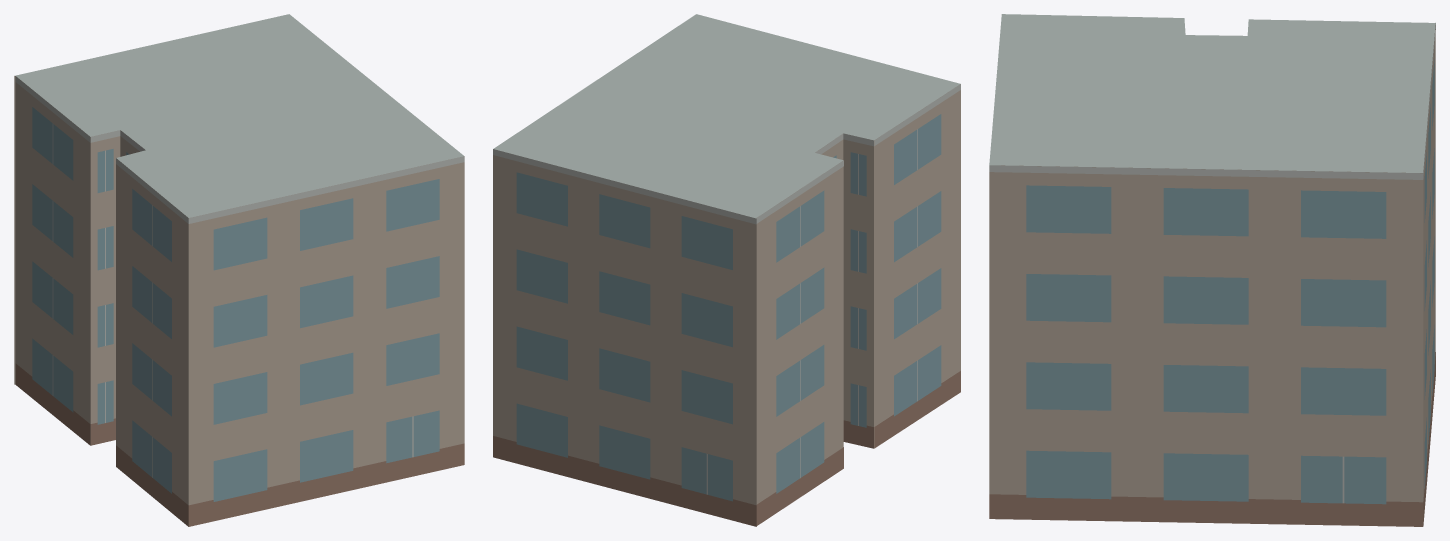
Rendered from survey-upis-32703099.glb.
3 renders of one model, left to right at view 1: azimuth 30°, elevation 25°; view 2: azimuth 150°, elevation 25°; view 3: azimuth 270°, elevation 25°, orthographic. The views are drawn at different scales.
Visible parts, largest first — view 1: survey-upis-32703099.tmp; view 2: survey-upis-32703099.tmp; view 3: survey-upis-32703099.tmp.
Part boxes in pixels (left/top/right/bottom): survey-upis-32703099.tmp: left=14, top=14, right=464, bottom=526; survey-upis-32703099.tmp: left=493, top=14, right=960, bottom=526; survey-upis-32703099.tmp: left=989, top=14, right=1435, bottom=526.
Size of the model in its own units: 12.07 by 12.5 by 14.31.
